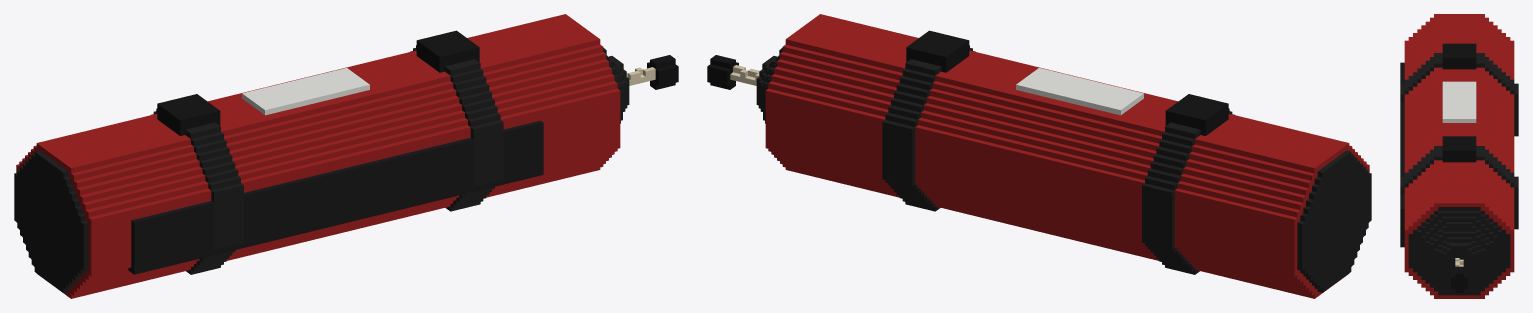
Rendered from tent_kit.glb.
3 renders of one model, left to right at view 1: azimuth 30°, elevation 25°; view 2: azimuth 150°, elevation 25°; view 3: azimuth 270°, elevation 25°, orthographic. The views are drawn at different scales.
Visible parts, largest first — view 1: tent_kit:compound; view 2: tent_kit:compound; view 3: tent_kit:compound.
Boxes of the visible parts, left/top/right/bottom form: tent_kit:compound: left=14, top=14, right=678, bottom=298; tent_kit:compound: left=707, top=14, right=1371, bottom=298; tent_kit:compound: left=1400, top=14, right=1518, bottom=298.
Size of the model in its own units: 0.5 by 0.116 by 0.112.
